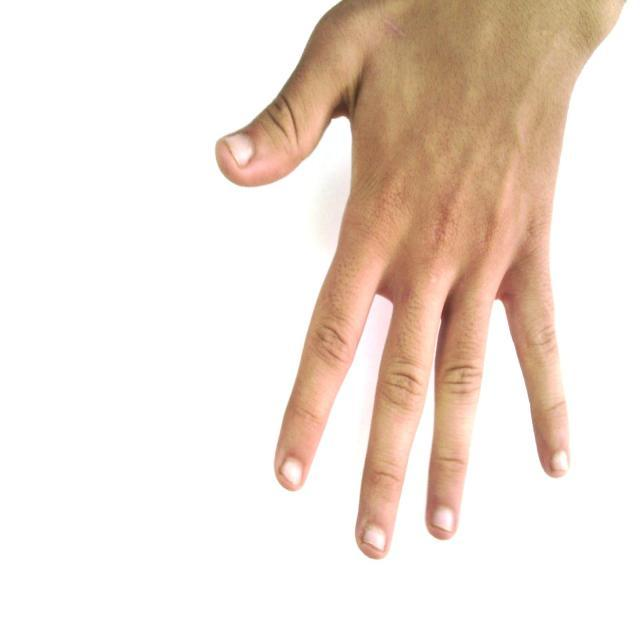Fingernail: (224, 133, 255, 165), (362, 524, 388, 550), (281, 457, 303, 485), (431, 505, 454, 531), (551, 450, 568, 470)
